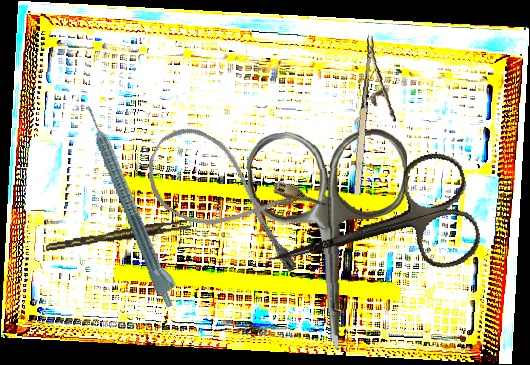Cannula: (132, 115, 331, 278)
Handpiece: (81, 100, 185, 310)
Iris Scissors: (253, 146, 487, 314), (246, 127, 414, 353)
Needle Holder: (348, 34, 406, 199)
Tissue Forceps: (44, 219, 192, 251)
